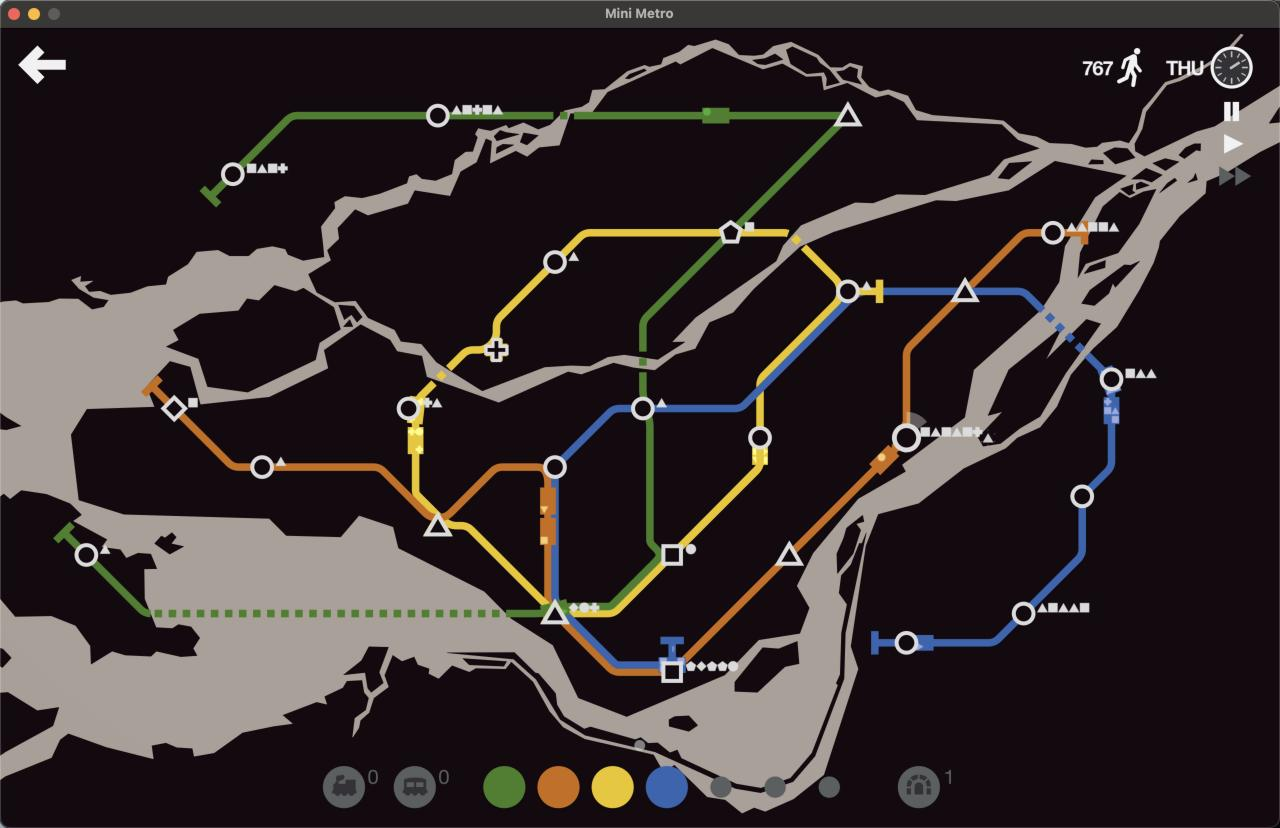CIRCLE: (891, 422, 922, 453), (220, 161, 246, 187), (396, 396, 422, 422), (74, 542, 100, 567), (250, 454, 275, 480), (1099, 366, 1124, 392), (747, 425, 773, 450), (425, 103, 450, 128), (835, 279, 860, 304), (1041, 220, 1066, 245), (543, 250, 568, 275), (895, 631, 920, 656), (1011, 601, 1036, 626), (1070, 484, 1095, 509), (543, 454, 568, 479), (630, 396, 656, 420)
CROSS: (484, 338, 510, 362)
GEM: (160, 394, 189, 423)
PENTAGON: (718, 219, 743, 245)
SQUARE: (660, 659, 685, 684), (660, 543, 685, 566)
TRIANGLE: (775, 540, 805, 568), (951, 275, 981, 303), (833, 100, 862, 128), (423, 511, 453, 538), (541, 599, 569, 625)
